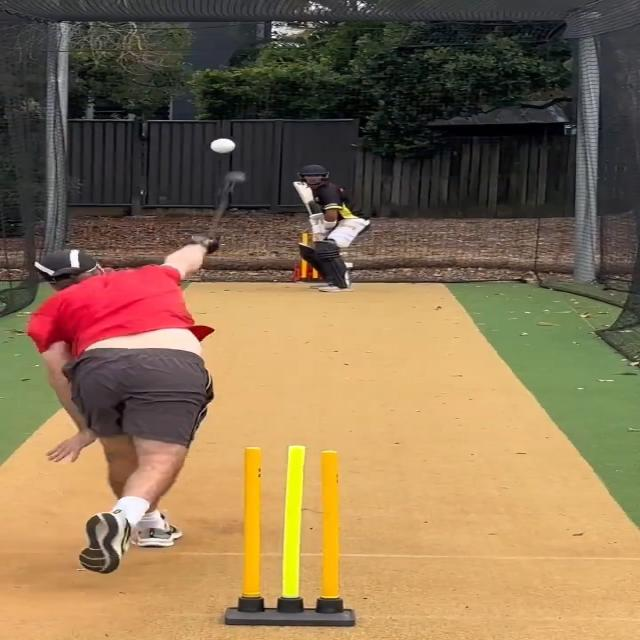ball: (208, 136, 238, 156)
stump: (226, 446, 357, 628)
